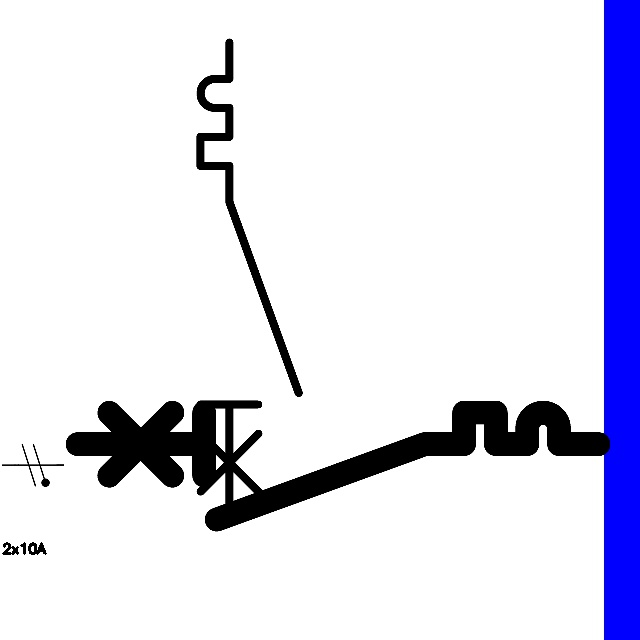interruptor_termomagnetico: (63, 399, 611, 533), (188, 30, 311, 533)
